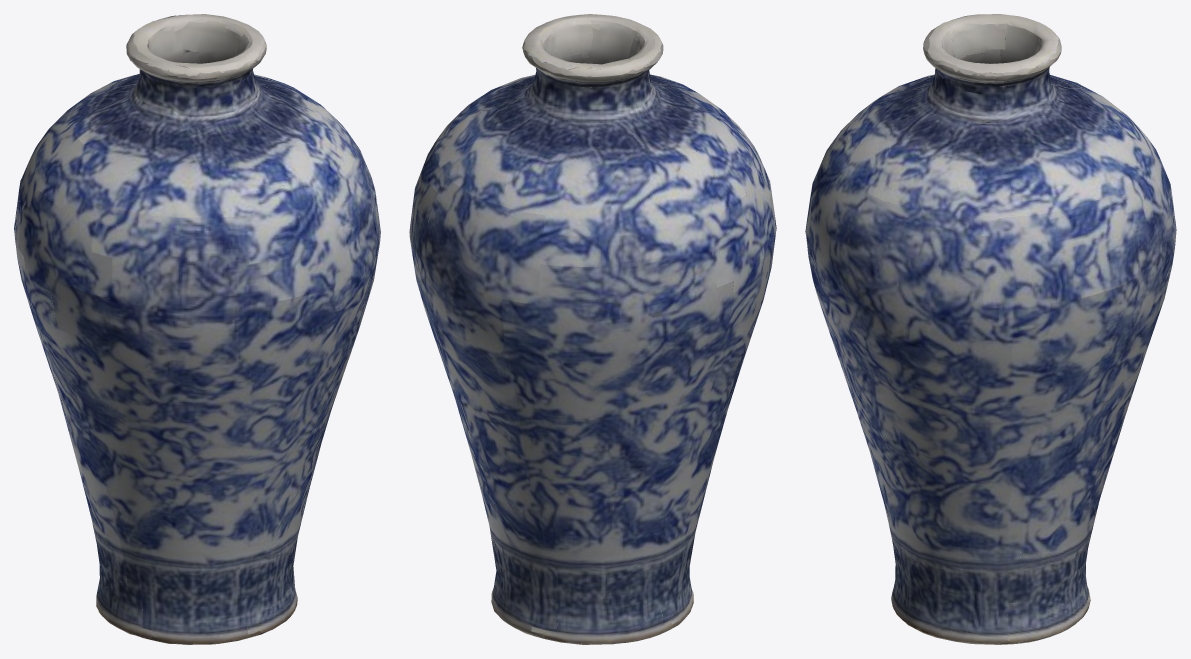
The model's file is B4-vase.glb.
The picture shows the model from 3 angles, left to right: view 1: azimuth 30°, elevation 25°; view 2: azimuth 150°, elevation 25°; view 3: azimuth 270°, elevation 25°; orthographic projection.
Parts seen in each view (by area): view 1: Prop_B4; view 2: Prop_B4; view 3: Prop_B4.
Boxes of the visible parts, left/top/right/bottom form: Prop_B4: left=14, top=14, right=380, bottom=644; Prop_B4: left=409, top=14, right=776, bottom=644; Prop_B4: left=805, top=14, right=1176, bottom=644.
Size of the model in its own units: 0.5918 by 1 by 0.5982.
1 material, 1 textured.
